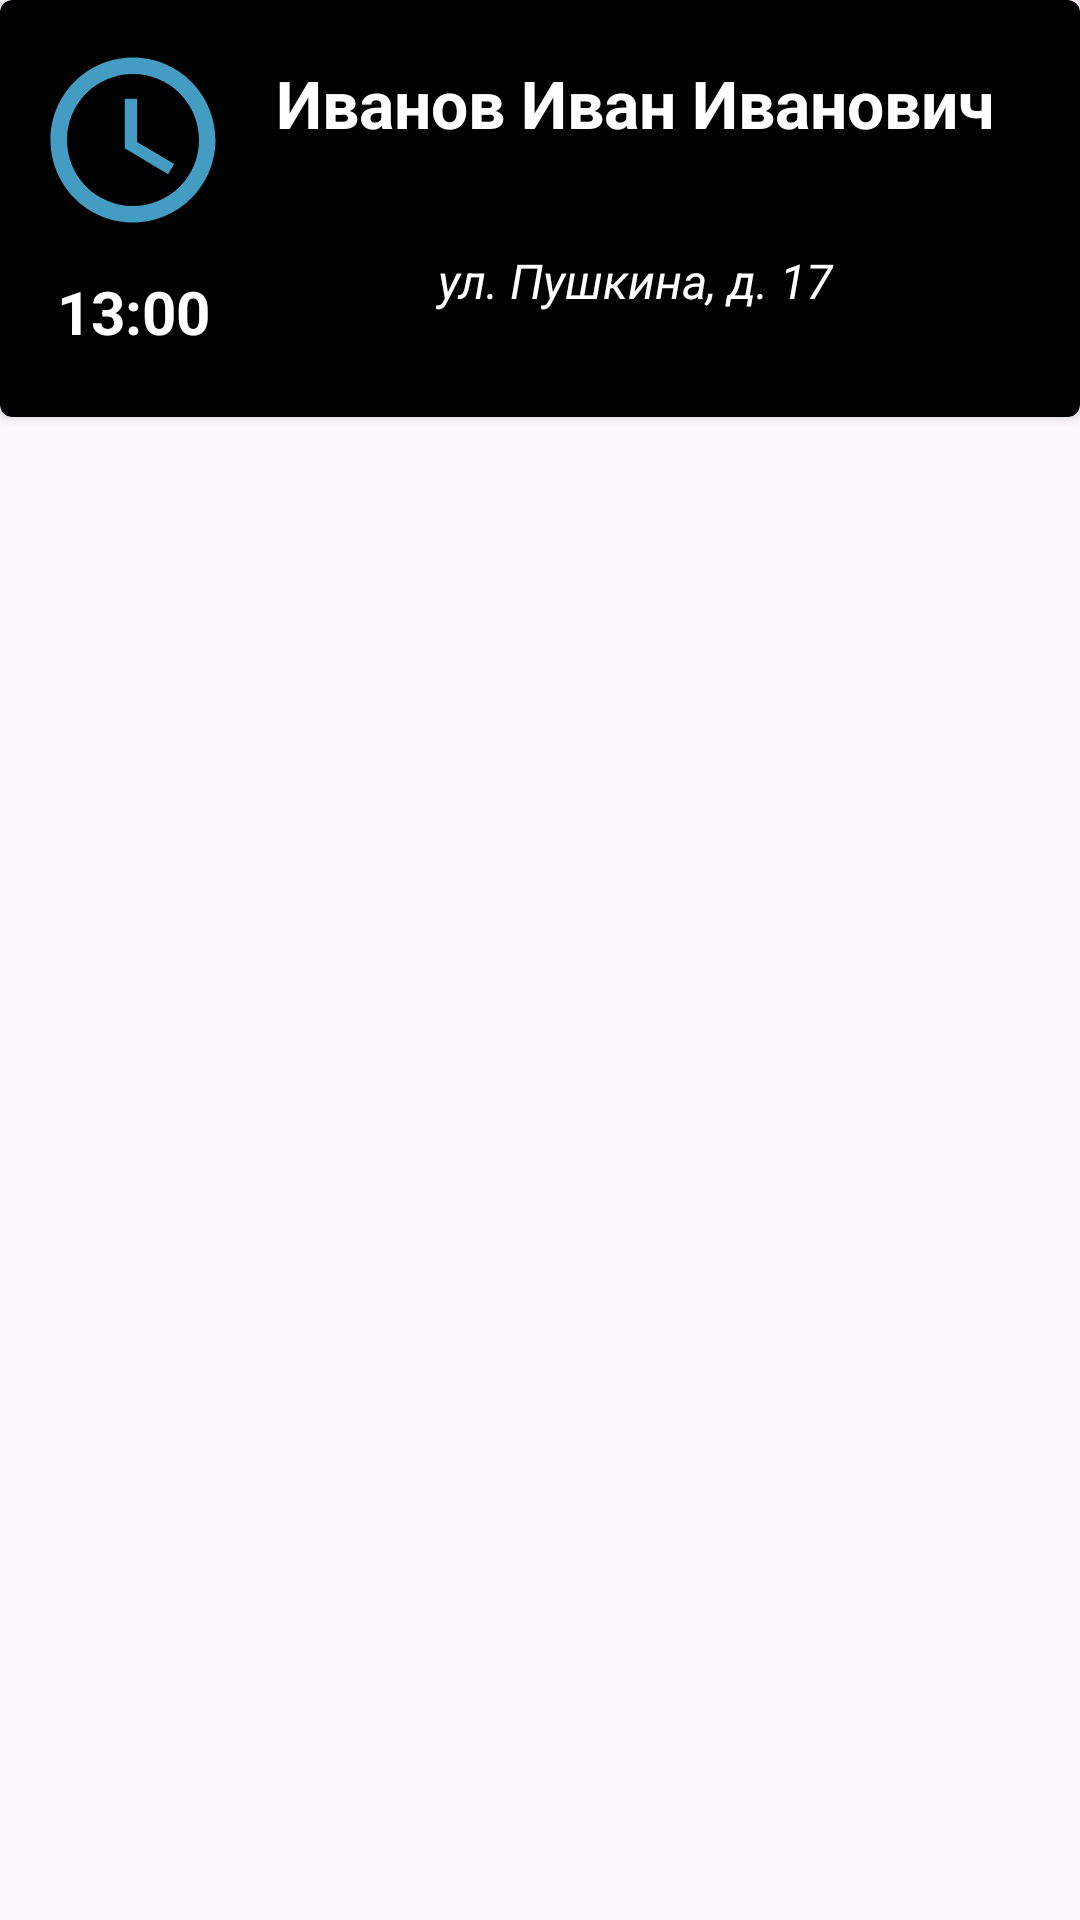

Point at icon controls on the screen. Image size 1080×1920, points as (x=x, y=y).
access time: (x=133, y=140)
